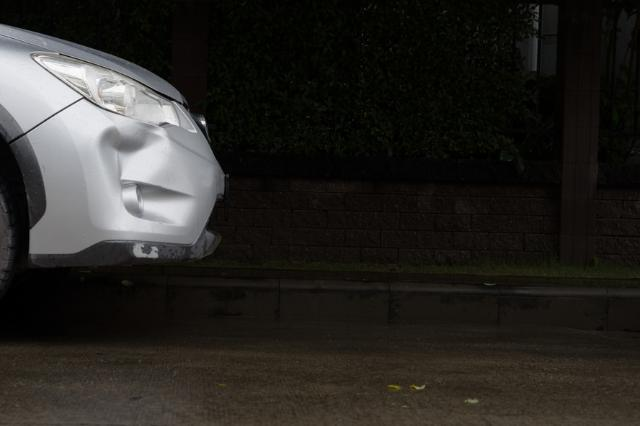Bumper: (82, 108, 215, 237)
